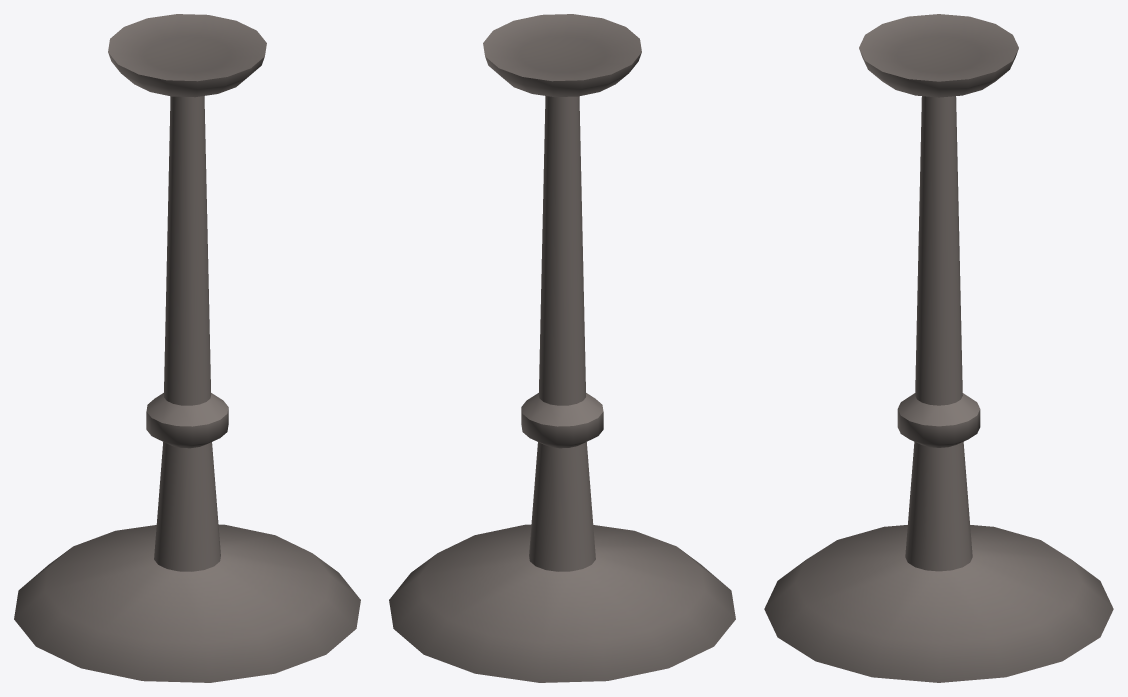
The model's file is Candlestick.fbx.
3 renders of one model, left to right at view 1: azimuth 30°, elevation 25°; view 2: azimuth 150°, elevation 25°; view 3: azimuth 270°, elevation 25°, orthographic.
Parts seen in each view (by area): view 1: Candlestick; view 2: Candlestick; view 3: Candlestick.
Part boxes in pixels (x1,y1,x2,y2): Candlestick: (14, 14, 360, 682); Candlestick: (389, 14, 735, 682); Candlestick: (764, 14, 1113, 682).
Bounding box in the file's own units: 18 × 31.9 × 18.
